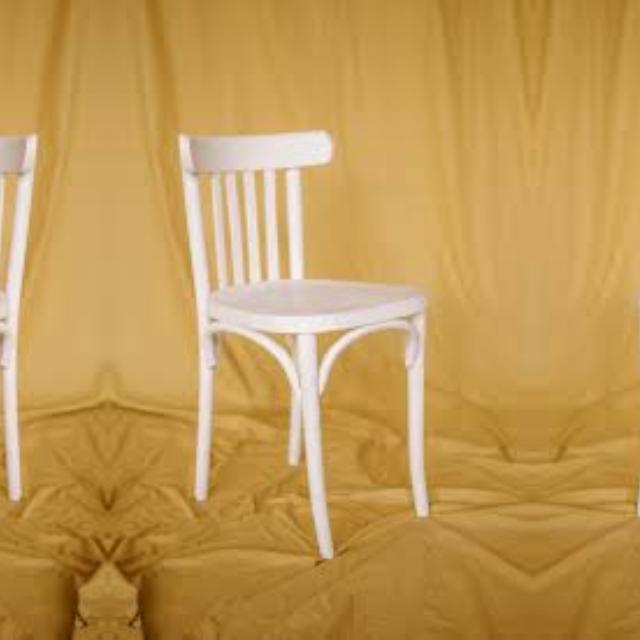obstacle: (151, 107, 473, 588), (0, 106, 63, 587), (593, 106, 640, 587)
